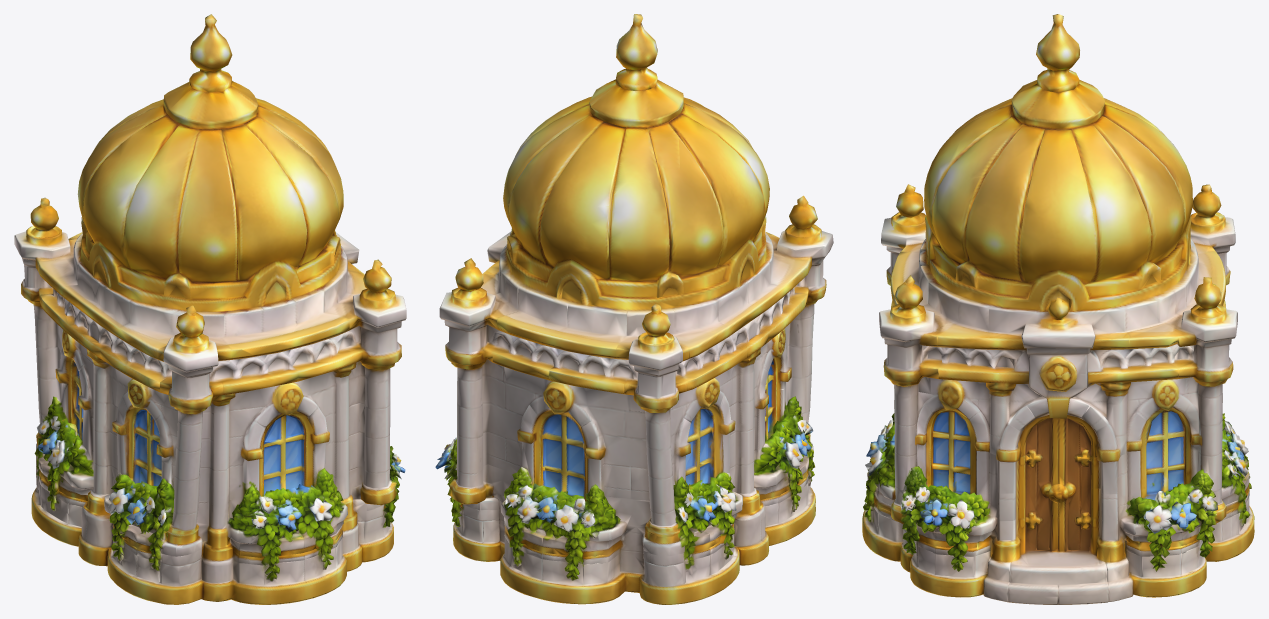
File: HaloDomeHouse_04_HD_src.glb
3 renders of one model, left to right at view 1: azimuth 30°, elevation 25°; view 2: azimuth 150°, elevation 25°; view 3: azimuth 270°, elevation 25°, orthographic.
Parts seen in each view (by area): view 1: tripo_node_c96c92af-dad1-42e3-b3ac-bc5dcda92d0c; view 2: tripo_node_c96c92af-dad1-42e3-b3ac-bc5dcda92d0c; view 3: tripo_node_c96c92af-dad1-42e3-b3ac-bc5dcda92d0c.
Boxes of the visible parts, x1,y1,x2,y2 form: tripo_node_c96c92af-dad1-42e3-b3ac-bc5dcda92d0c: [14, 14, 406, 604]; tripo_node_c96c92af-dad1-42e3-b3ac-bc5dcda92d0c: [435, 14, 833, 604]; tripo_node_c96c92af-dad1-42e3-b3ac-bc5dcda92d0c: [862, 14, 1254, 604].
Size of the model in its own units: 0.5503 by 0.979 by 0.6685.
1 material, 1 textured.
